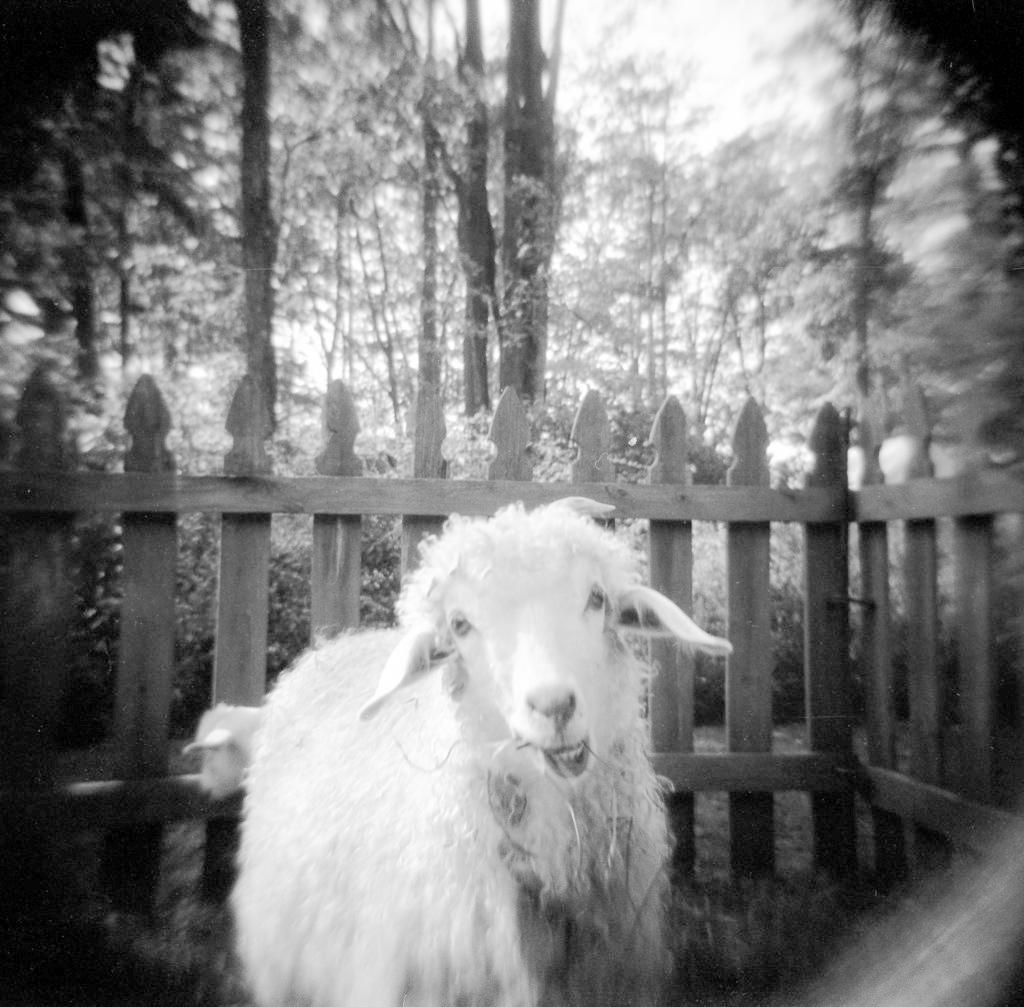Sheep: (236, 494, 732, 1006)
